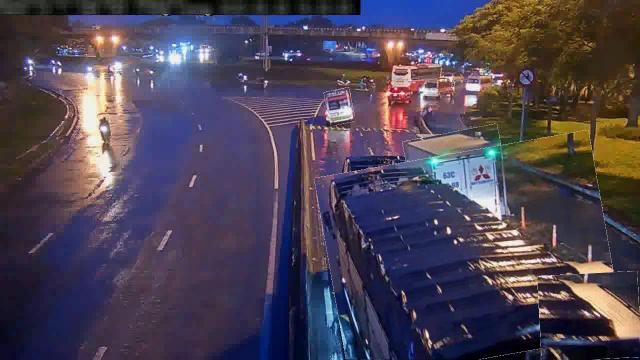Bike: (98, 114, 110, 144)
Bus: (326, 89, 354, 125)
Car: (538, 272, 640, 360)
Truck: (322, 141, 616, 359), (406, 128, 512, 238)
